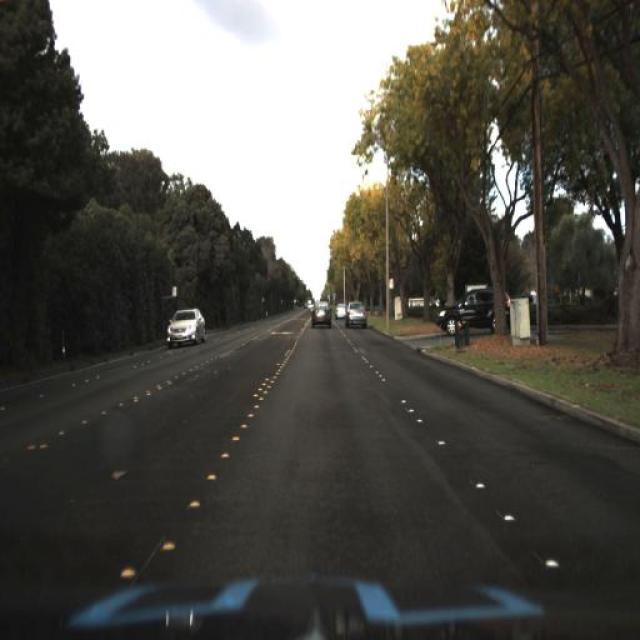car: (432, 284, 511, 338), (163, 294, 209, 348), (161, 302, 208, 347), (340, 293, 376, 335), (304, 294, 338, 332), (334, 296, 350, 322)
